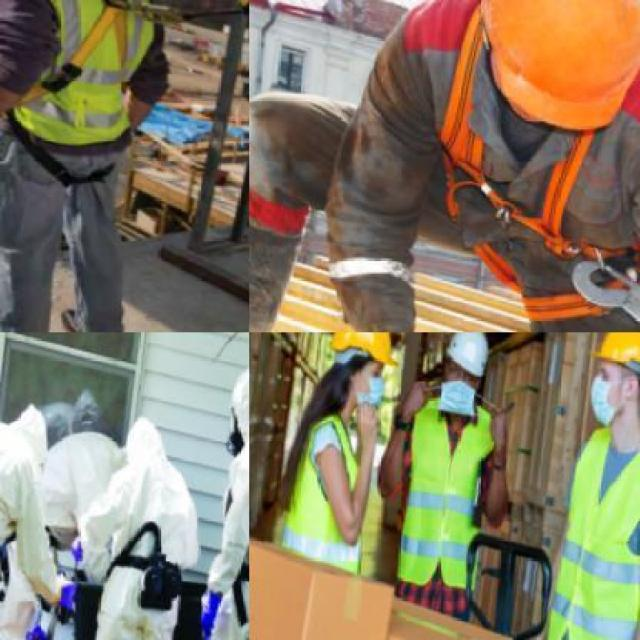Vest: (277, 0, 638, 331), (42, 451, 223, 638), (0, 0, 191, 169), (512, 418, 638, 638), (375, 394, 508, 591), (157, 418, 248, 638), (260, 404, 380, 562), (0, 406, 78, 638)
